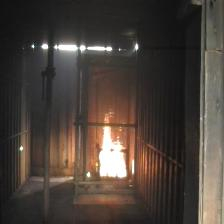fire: (98, 109, 127, 177)
